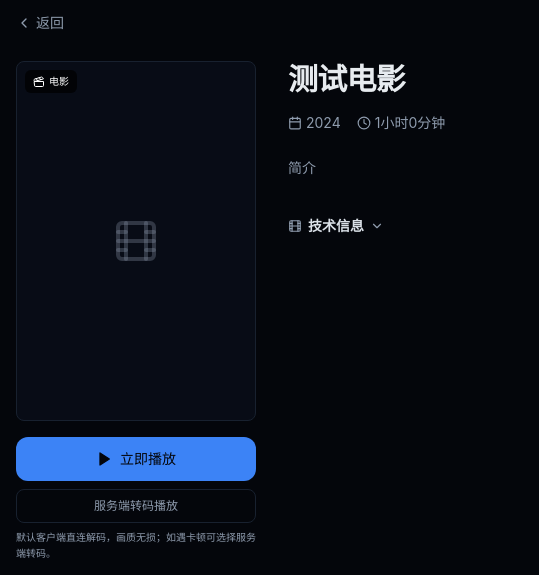
Detail page: technical info + progress wiring › maps an ok:false probe response to the offline state without blocking playback
Click the button "技术信息": [336, 226] box [288,212,384,240]
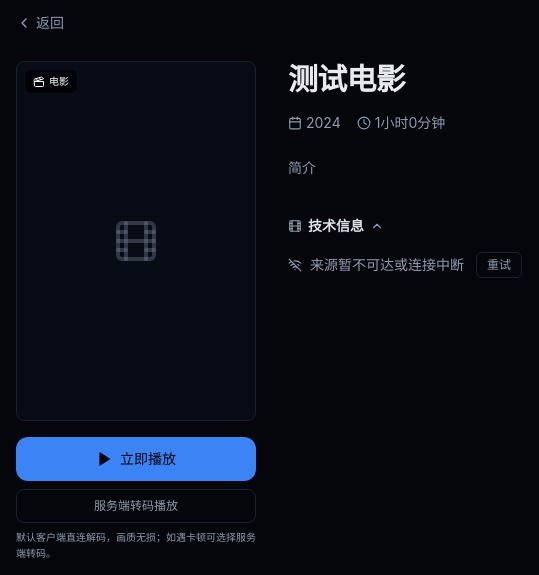
Expected: the button "立即播放" is shown, [16,437,256,481]
Now the text "来源暂不可达或连接中断" is shown, box [288,255,464,275]
